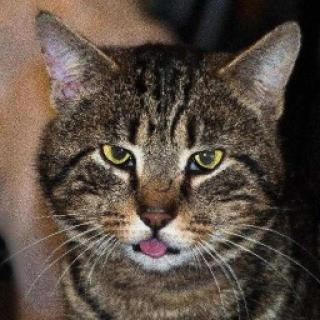cat: (29, 4, 300, 288)
nose: (134, 185, 183, 233)
